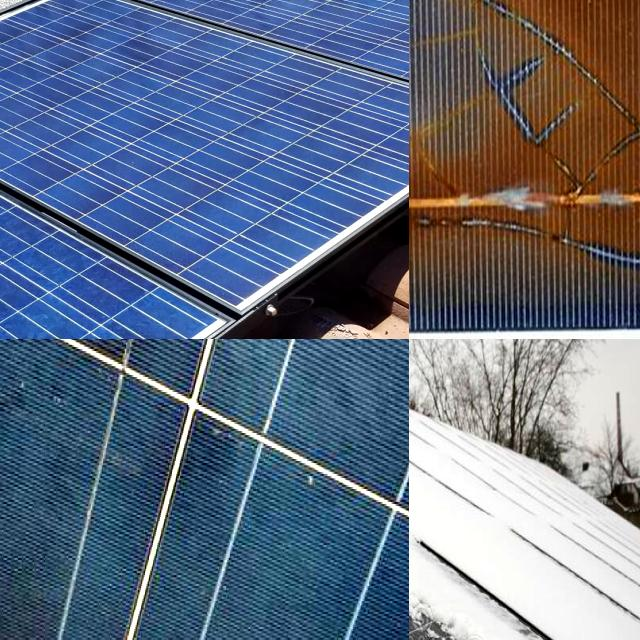crack: (66, 1, 302, 218), (1, 303, 148, 339), (241, 0, 333, 46), (0, 277, 65, 339), (0, 285, 51, 339)
panel: (416, 516, 548, 627), (409, 404, 474, 577), (409, 422, 526, 502), (409, 339, 459, 493), (567, 535, 640, 640), (409, 418, 460, 558), (409, 538, 480, 636), (409, 339, 465, 403), (538, 473, 584, 523), (409, 359, 444, 412)
shadow: (409, 0, 640, 306), (0, 339, 78, 487)
